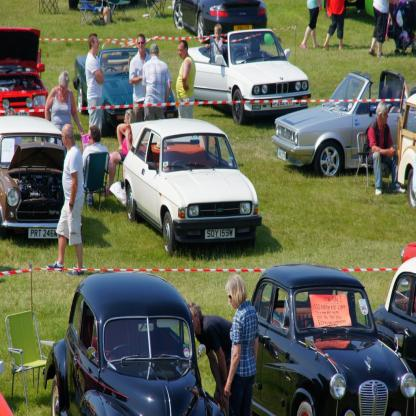Car: (43, 272, 220, 416), (243, 268, 414, 416), (123, 115, 263, 262), (271, 69, 416, 181), (190, 26, 312, 125), (75, 47, 176, 131), (1, 116, 67, 241), (376, 266, 416, 416), (1, 29, 52, 116), (175, 1, 268, 44), (399, 98, 416, 214)
